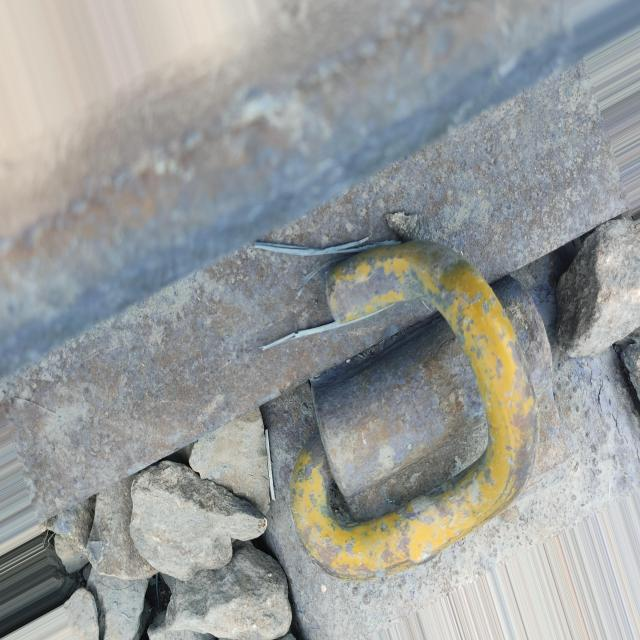Good Fasteners: (265, 211, 566, 621)
